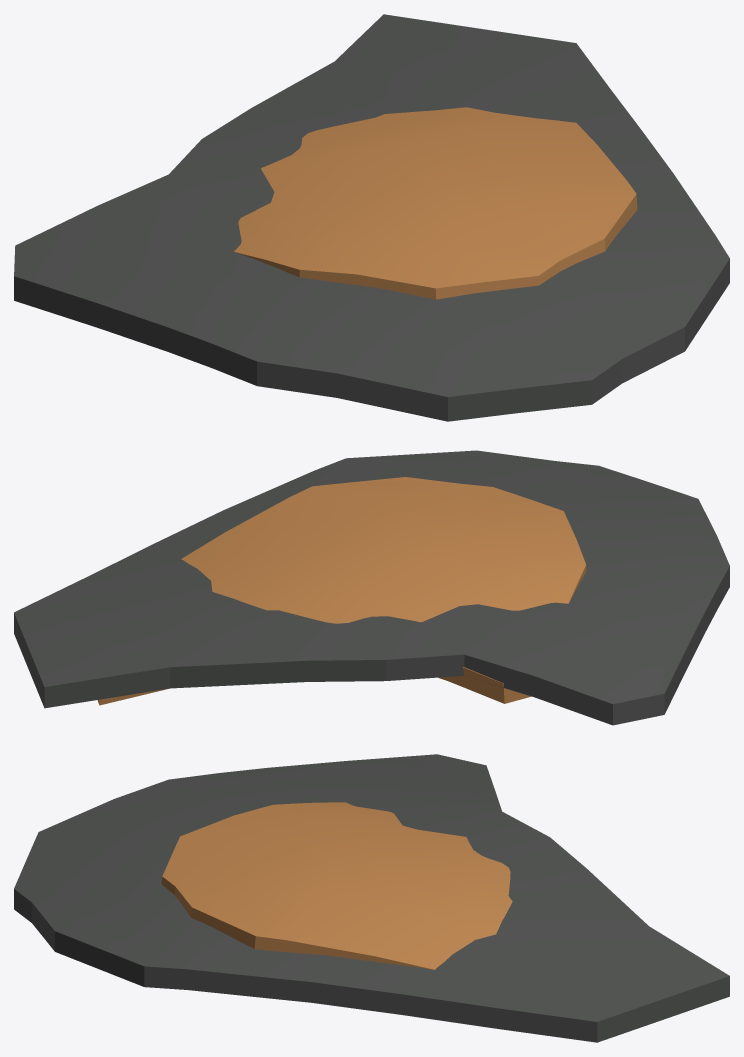
Rendered from SM_Worldmap_B03_Col.FBX.
3 views of the same model, one above another, from view 1: azimuth 30°, elevation 25°; view 2: azimuth 150°, elevation 25°; view 3: azimuth 270°, elevation 25° (orthographic). The views are drawn at different scales.
Parts seen in each view (by area): view 1: Object044; view 2: Object044; view 3: Object044.
Boxes of the visible parts, box(x1,y1,x2,y2) form: Object044: box(14, 14, 729, 421); Object044: box(14, 450, 729, 725); Object044: box(14, 754, 729, 1042).
Bounding box in the file's own units: 235 × 29.29 × 264.
